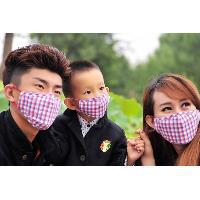OK: (11, 75, 65, 129), (150, 95, 199, 144), (75, 81, 112, 118)
